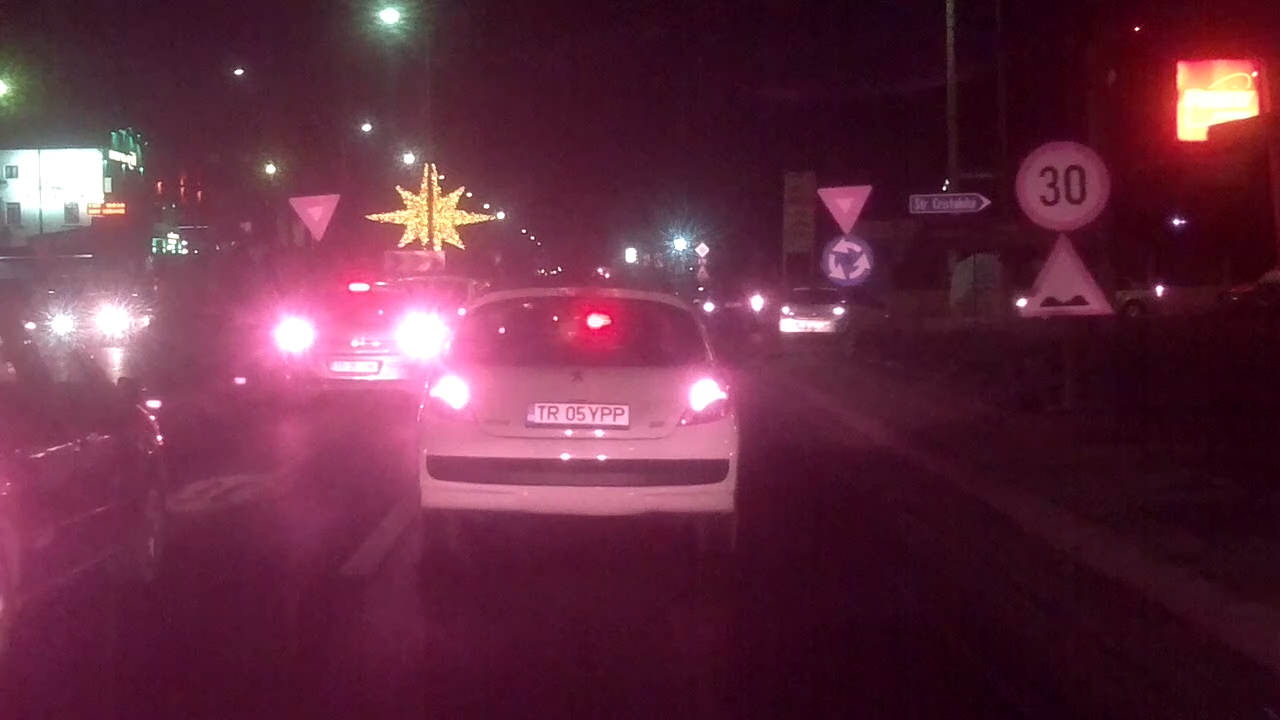license-plate: (522, 398, 634, 430)
